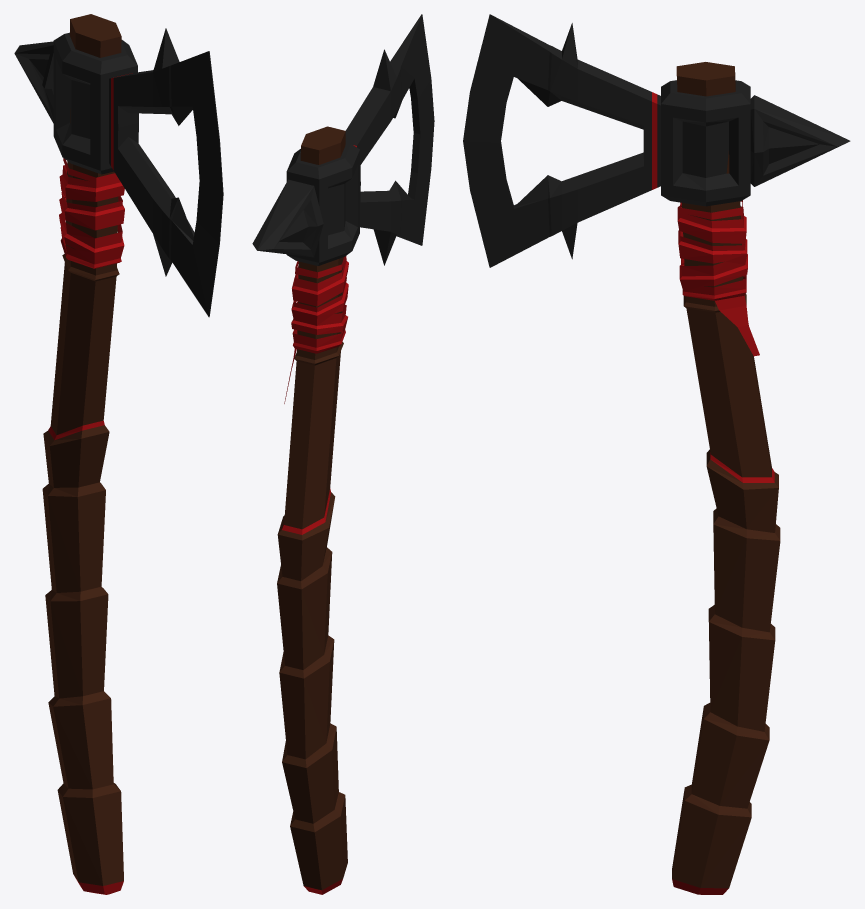
Rendered from tonyhawk.obj.
3 views of the same model, side by side, from view 1: azimuth 30°, elevation 25°; view 2: azimuth 150°, elevation 25°; view 3: azimuth 270°, elevation 25° (orthographic). The views are drawn at different scales.
Parts seen in each view (by area): view 1: Cube.004; view 2: Cube.004; view 3: Cube.004.
Boxes of the visible parts, x1=… form: Cube.004: x1=14, y1=14, x2=223, y2=894; Cube.004: x1=252, y1=14, x2=434, y2=894; Cube.004: x1=463, y1=14, x2=850, y2=894.
Bounding box in the file's own units: 1.68 × 22.12 × 8.85.
